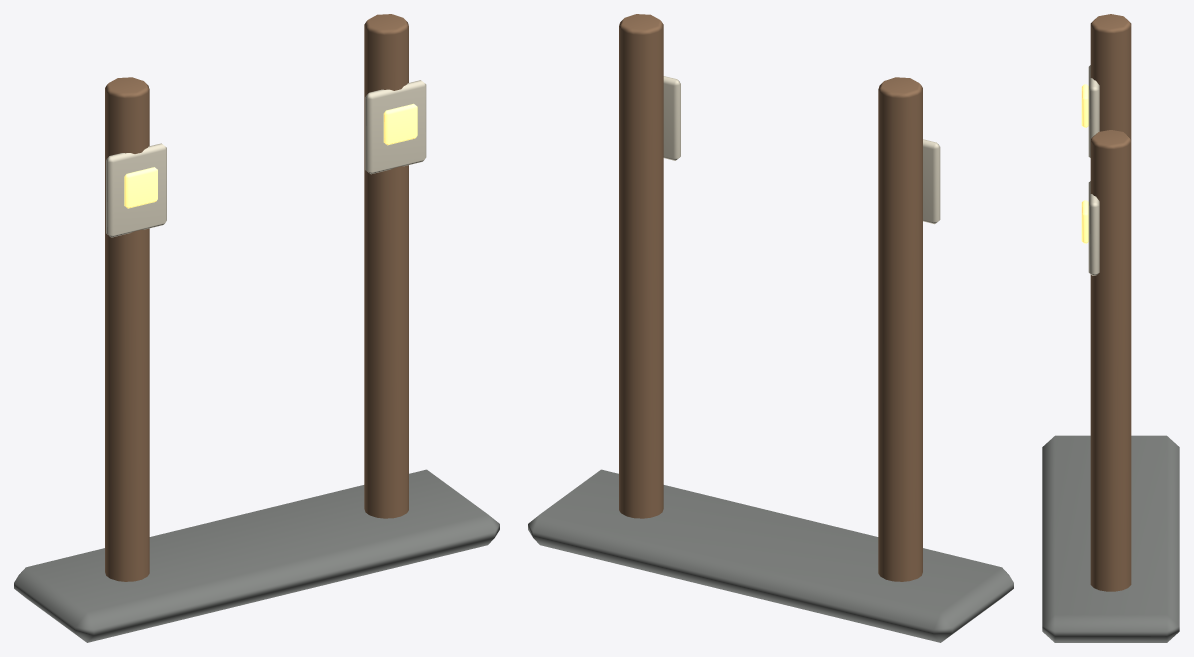
Rendered from MYB96_RoadReflectorPair.fbx.
The picture shows the model from 3 angles, left to right: view 1: azimuth 30°, elevation 25°; view 2: azimuth 150°, elevation 25°; view 3: azimuth 270°, elevation 25°; orthographic projection. The views are drawn at different scales.
Visible parts, largest first — view 1: gravel_base, reflector_post_0.22, reflector_post_-0.22, white_cap_0.22, white_cap_-0.22, amber_reflector_0.22, amber_reflector_-0.22; view 2: gravel_base, reflector_post_-0.22, reflector_post_0.22, white_cap_0.22, white_cap_-0.22; view 3: gravel_base, reflector_post_0.22, reflector_post_-0.22, white_cap_0.22, white_cap_-0.22, amber_reflector_-0.22, amber_reflector_0.22.
Boxes of the visible parts, x1=… form: gravel_base: x1=14, y1=469, x2=499, y2=642; reflector_post_0.22: x1=364, y1=14, x2=408, y2=518; reflector_post_-0.22: x1=105, y1=77, x2=149, y2=581; white_cap_0.22: x1=365, y1=80, x2=426, y2=174; white_cap_-0.22: x1=106, y1=143, x2=166, y2=237; amber_reflector_0.22: x1=383, y1=103, x2=417, y2=145; amber_reflector_-0.22: x1=124, y1=167, x2=157, y2=208; gravel_base: x1=528, y1=469, x2=1013, y2=642; reflector_post_-0.22: x1=878, y1=77, x2=922, y2=581; reflector_post_0.22: x1=619, y1=14, x2=663, y2=518; white_cap_0.22: x1=663, y1=76, x2=680, y2=160; white_cap_-0.22: x1=923, y1=139, x2=940, y2=224; gravel_base: x1=1042, y1=435, x2=1179, y2=642; reflector_post_0.22: x1=1090, y1=130, x2=1131, y2=591; reflector_post_-0.22: x1=1090, y1=14, x2=1131, y2=138; white_cap_0.22: x1=1088, y1=181, x2=1099, y2=275; white_cap_-0.22: x1=1088, y1=65, x2=1099, y2=157; amber_reflector_-0.22: x1=1081, y1=84, x2=1088, y2=127; amber_reflector_0.22: x1=1081, y1=200, x2=1088, y2=243.
Bounding box in the file's own units: 72 × 84 × 22.
